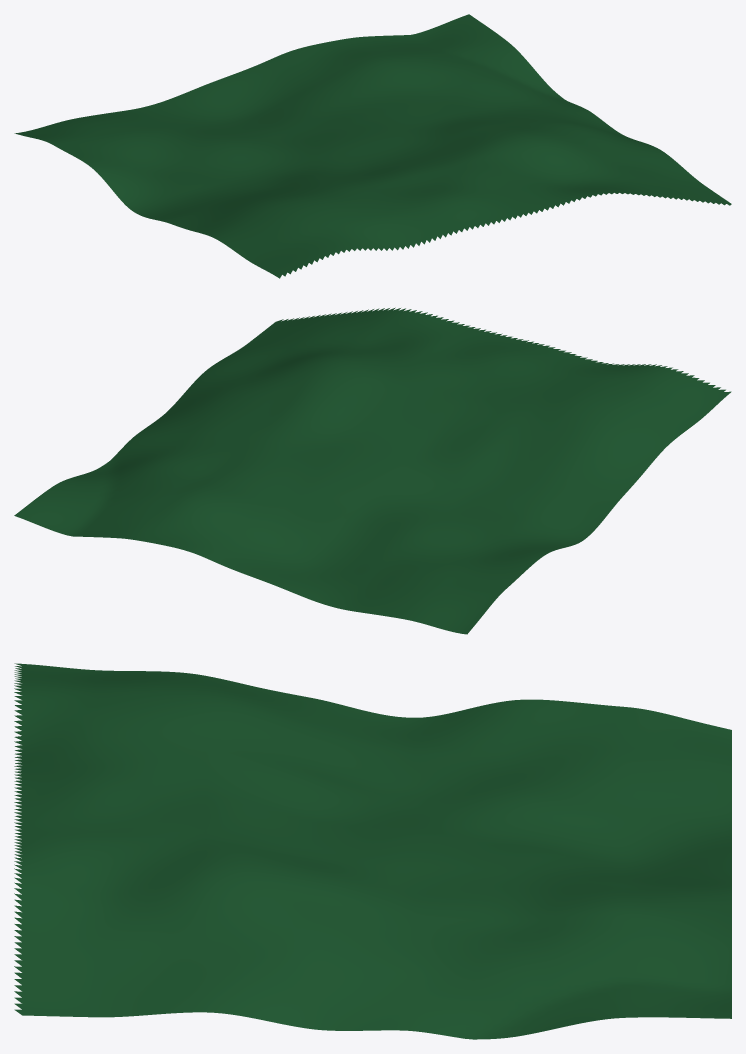
File: payo_land_xm3_ym2.glb
The picture shows the model from 3 angles, top to bottom: view 1: azimuth 30°, elevation 25°; view 2: azimuth 150°, elevation 25°; view 3: azimuth 270°, elevation 25°; orthographic projection. The views are drawn at different scales.
Parts seen in each view (by area): view 1: payo_land_xm3_ym2; view 2: payo_land_xm3_ym2; view 3: payo_land_xm3_ym2.
Boxes of the visible parts, box(x1,y1,x2,y2) form: payo_land_xm3_ym2: box(14, 14, 731, 278); payo_land_xm3_ym2: box(14, 307, 731, 634); payo_land_xm3_ym2: box(14, 663, 731, 1039).
Size of the model in its own units: 255 by 36.05 by 258.
